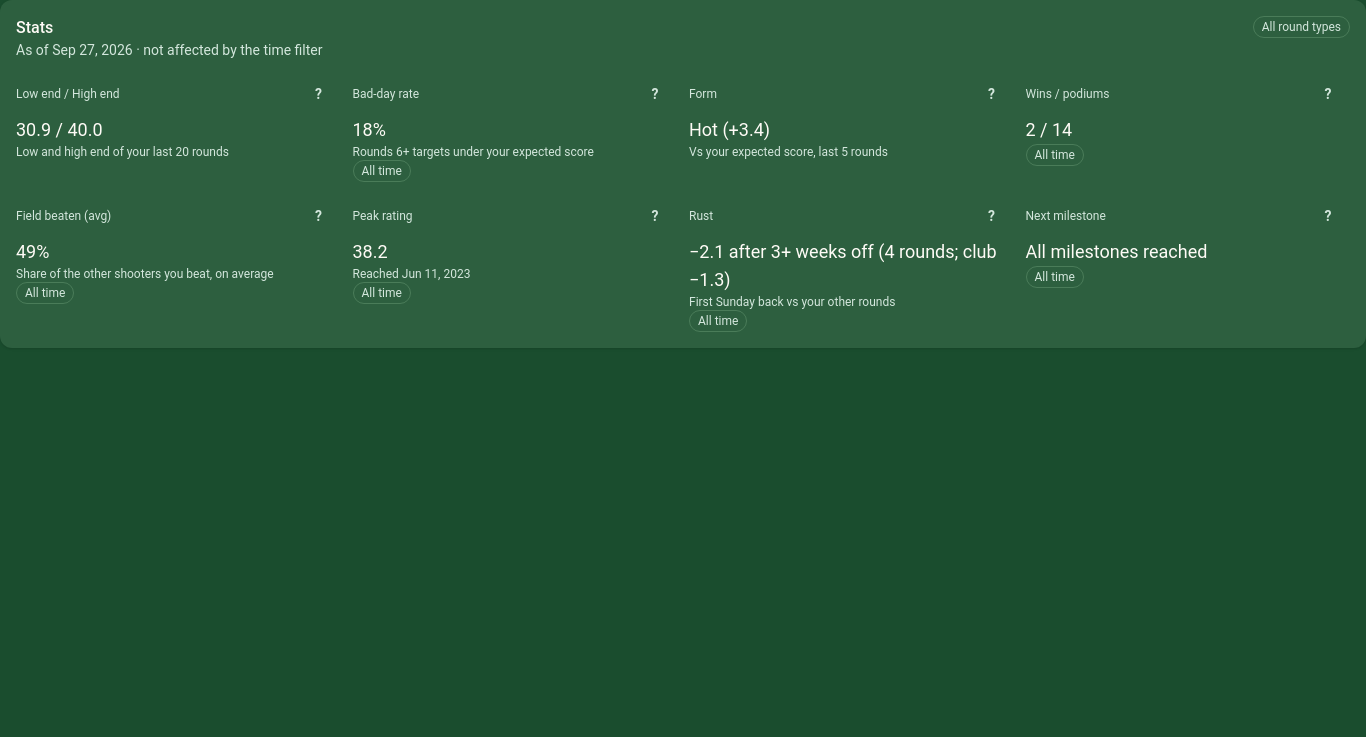
it: InsightsCard › opens a plain-language explanation for a stat
Expected: the text "2 / 14" is shown, x1=1026 y1=119 x2=1072 y2=140
Click the button "?" in the row of "Rust".
click(992, 216)  # box x1=970 y1=194 x2=1014 y2=238
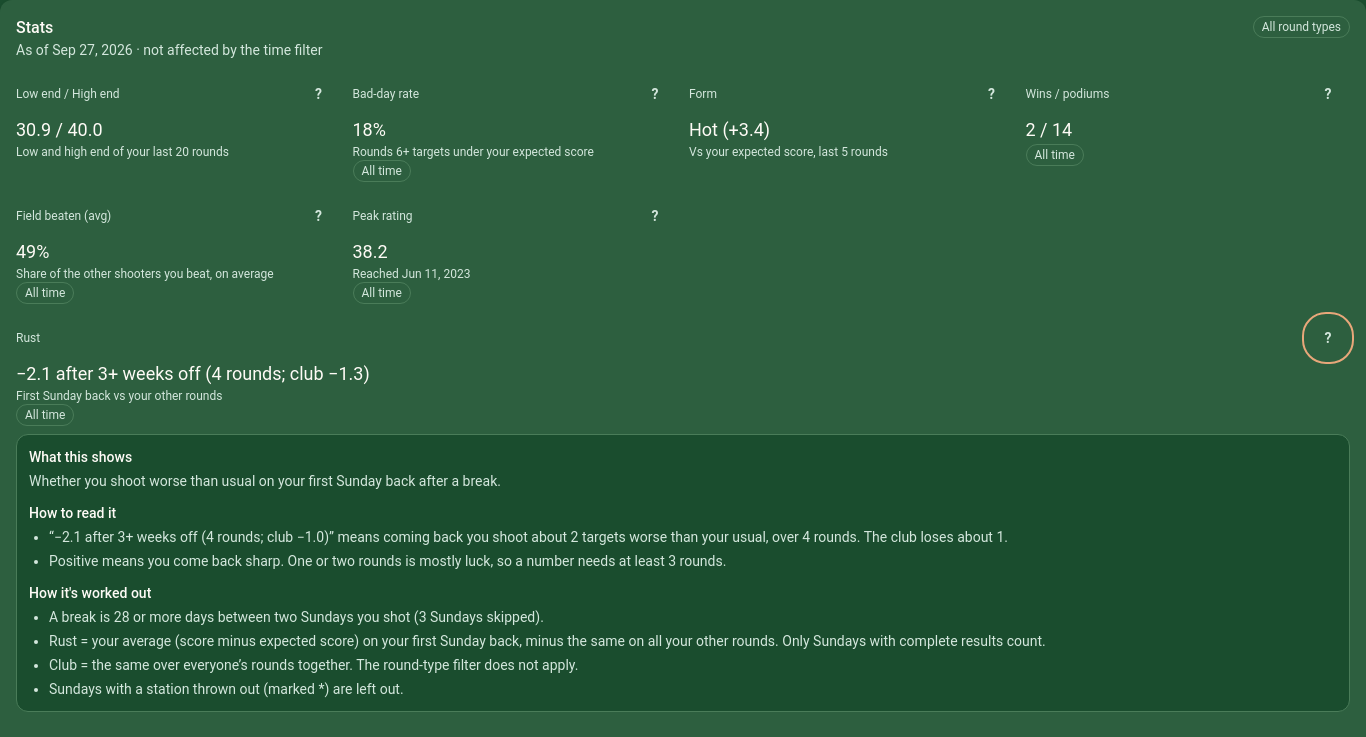
Result: the heading "What this shows" is shown at x1=29 y1=449 x2=132 y2=465
Result: the list item "28 or more days" is shown at x1=49 y1=609 x2=544 y2=625
